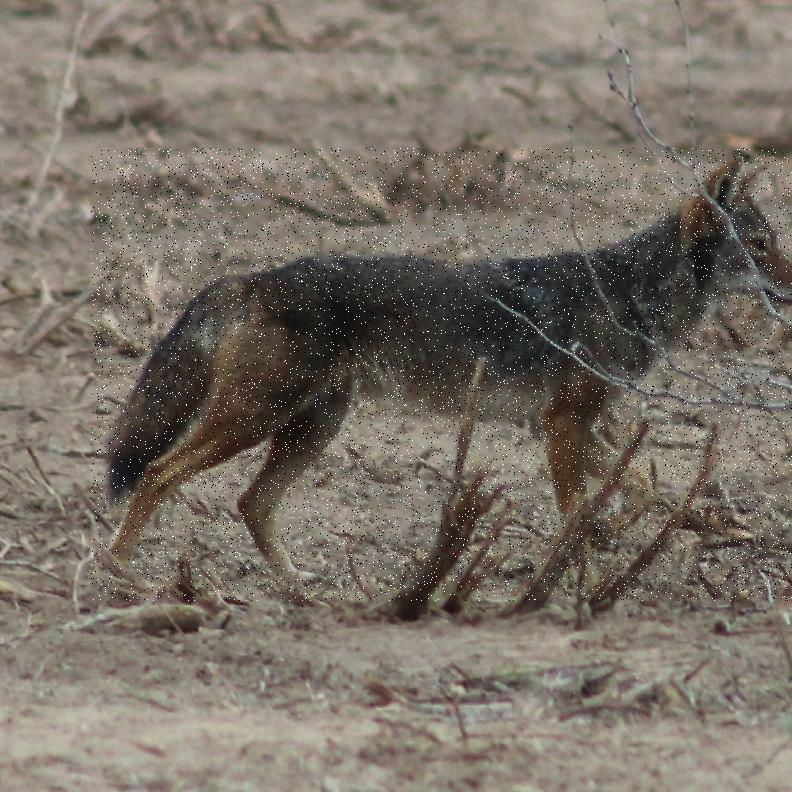Coyote: (91, 148, 792, 601)
